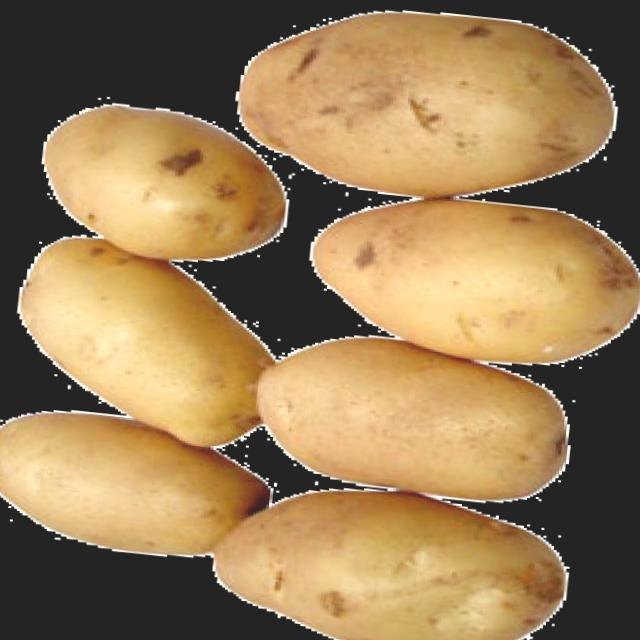potato: (229, 0, 623, 220), (300, 183, 640, 381), (0, 227, 280, 455), (196, 471, 566, 640), (246, 328, 576, 504), (26, 93, 294, 273), (0, 402, 273, 571)
